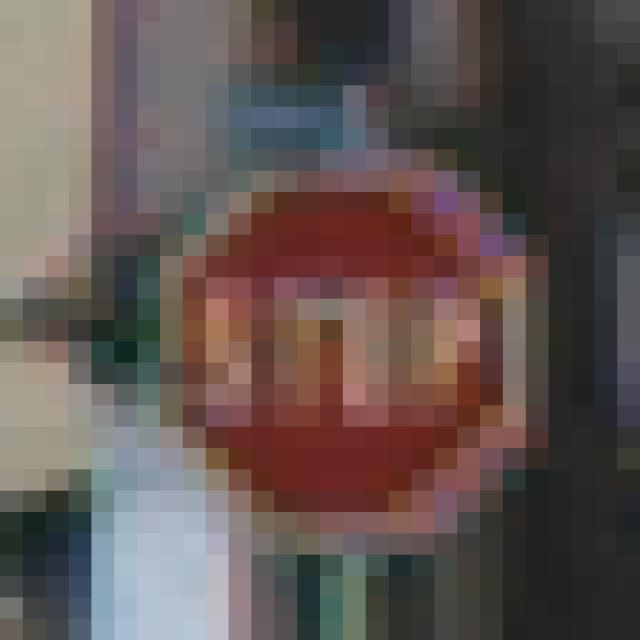STOP: (115, 108, 527, 534)
